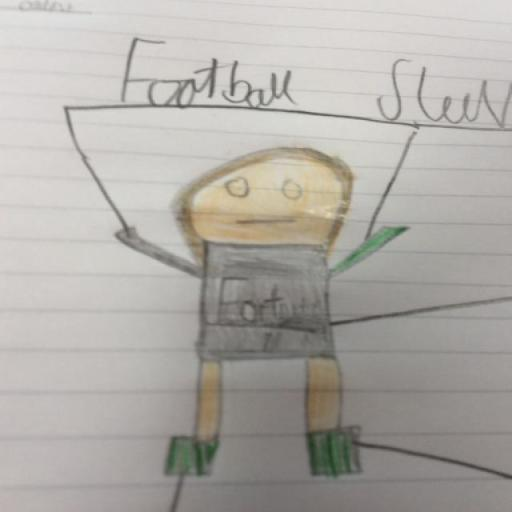person: (105, 143, 410, 479)
